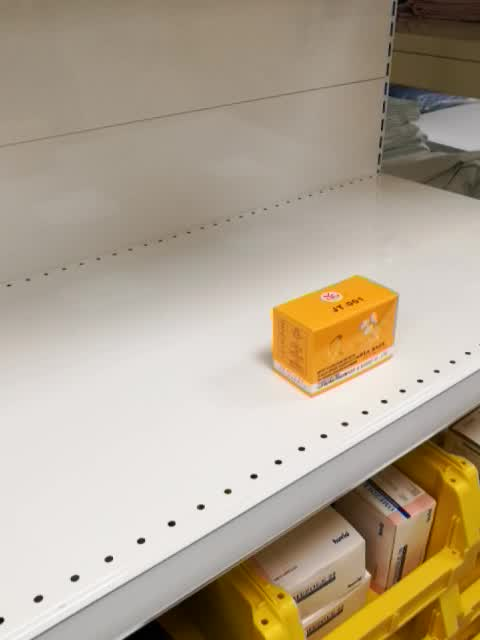jasminetea: (269, 272, 404, 399)
